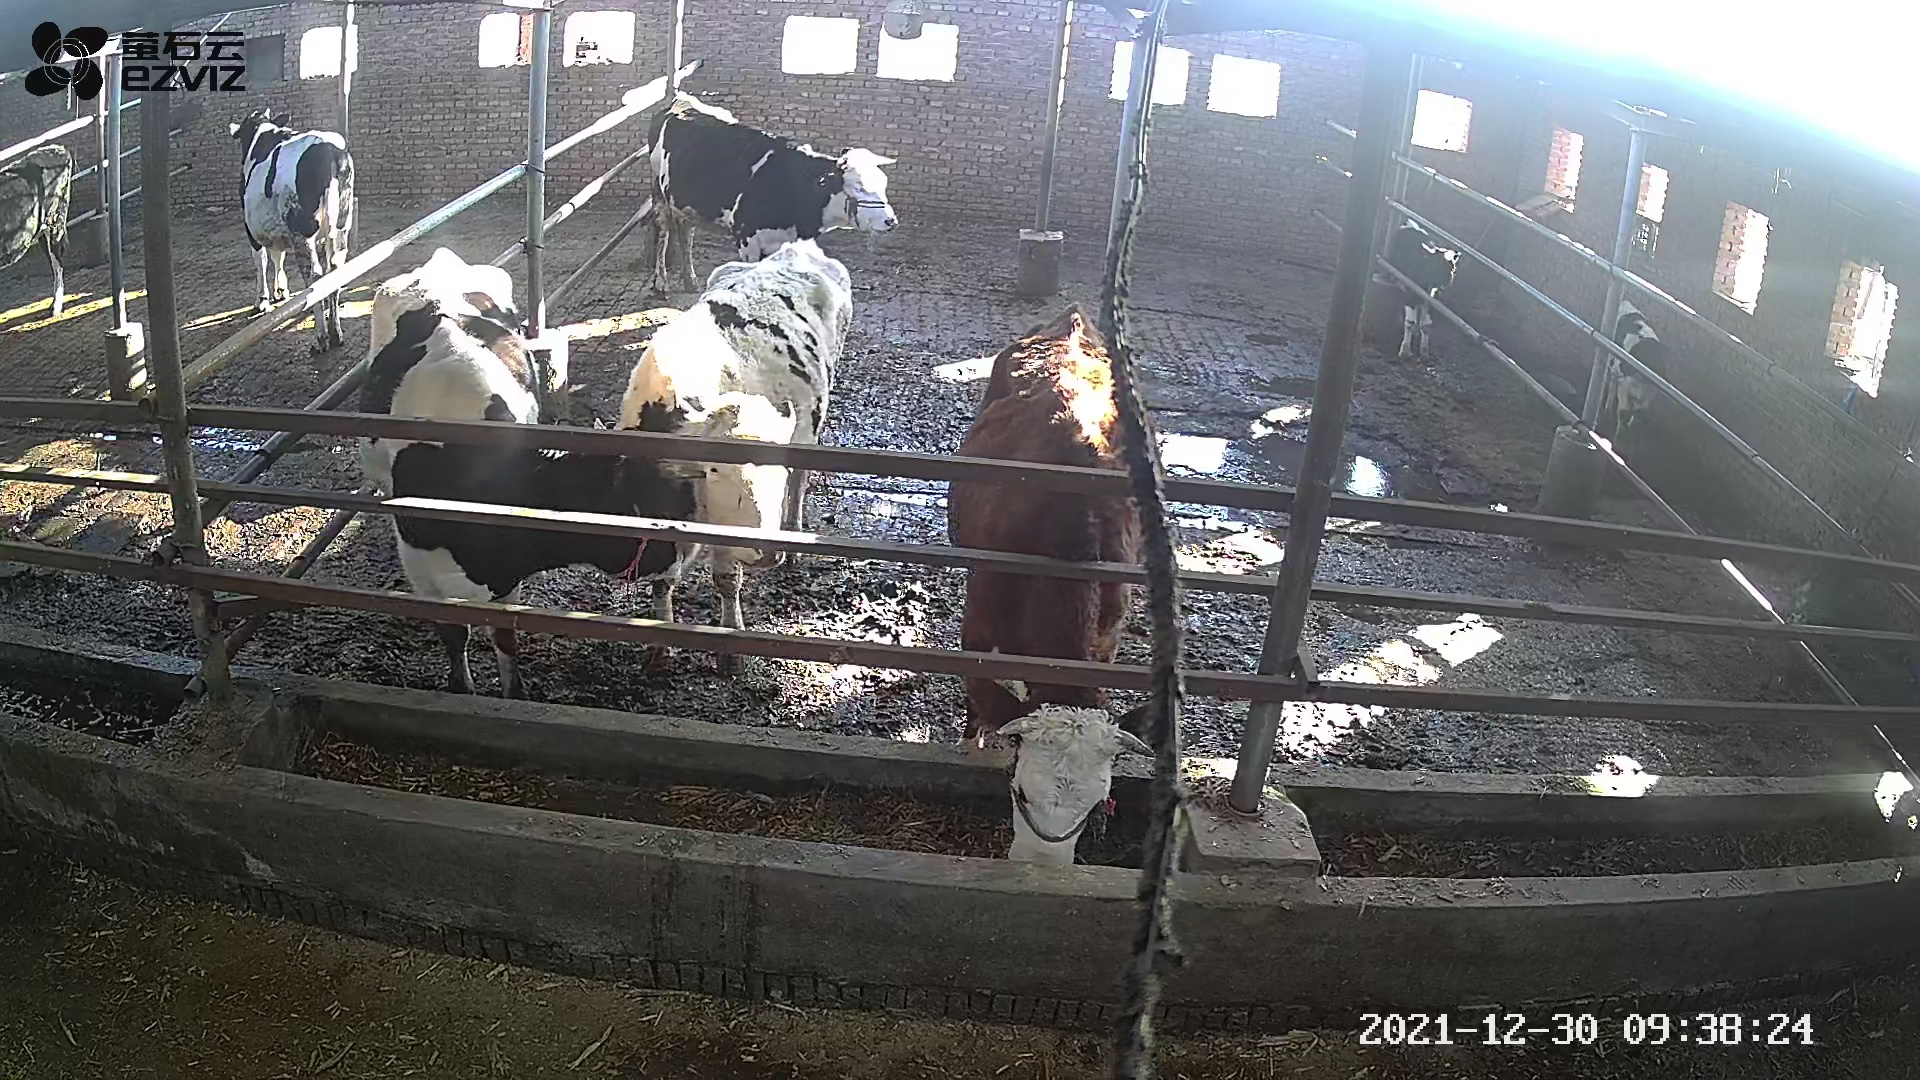cow: (351, 243, 742, 703), (944, 295, 1153, 866), (609, 235, 855, 680), (646, 88, 901, 301)
